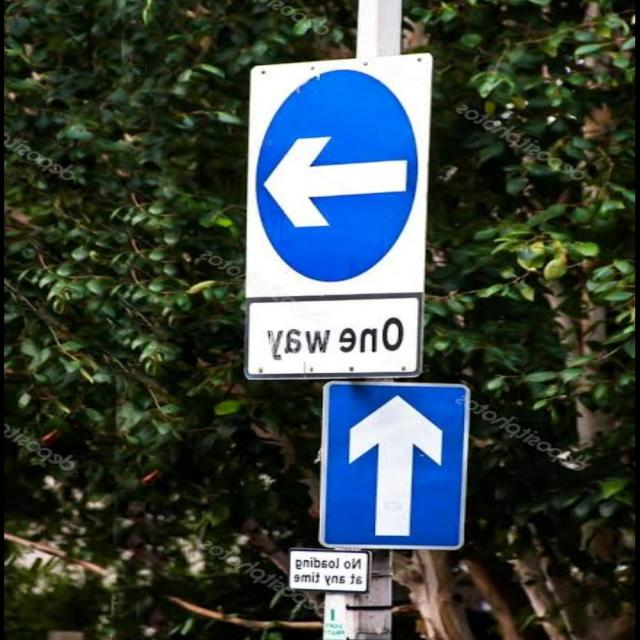Turn Left: (256, 74, 428, 283)
